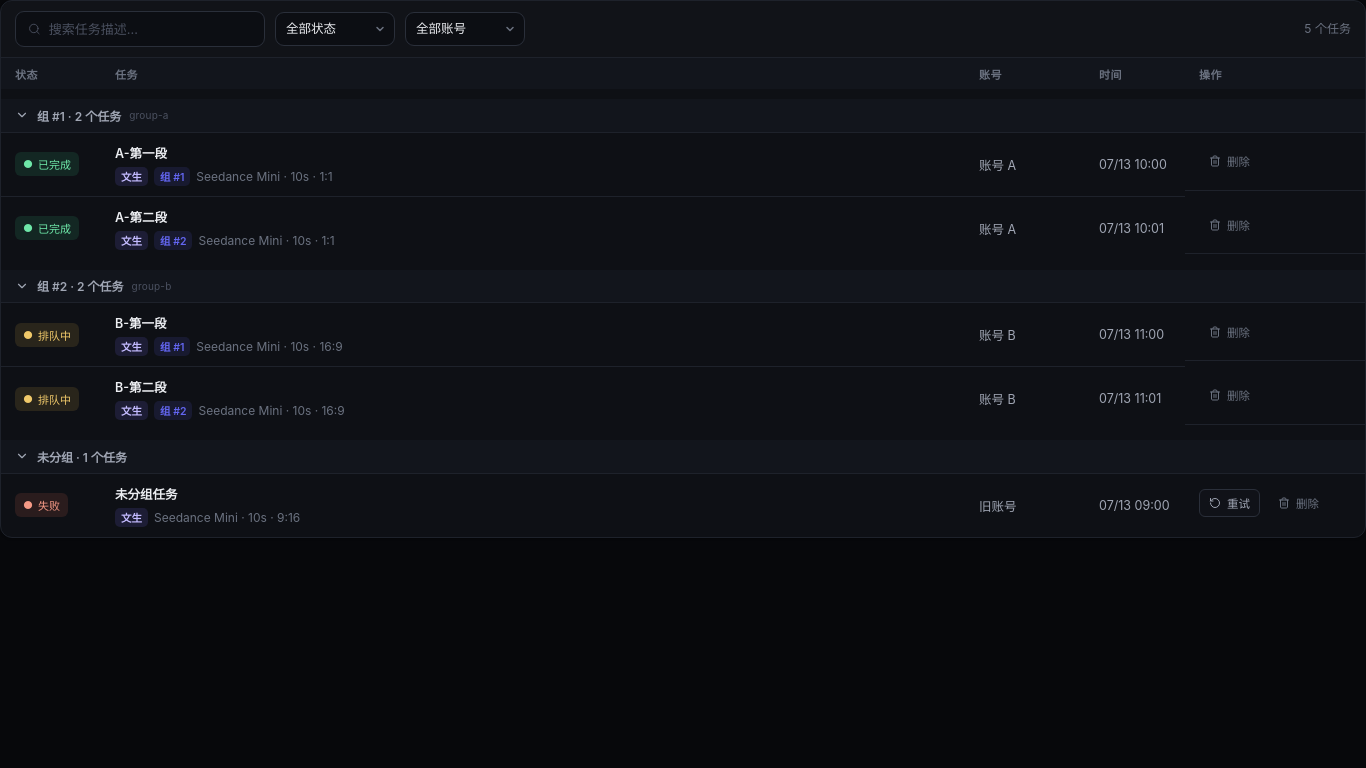
Scenario: partitions visible tasks by group and keeps group order after filtering
Type "B-" into the field named "搜索任务" at (150, 29), box [49, 12, 252, 46]
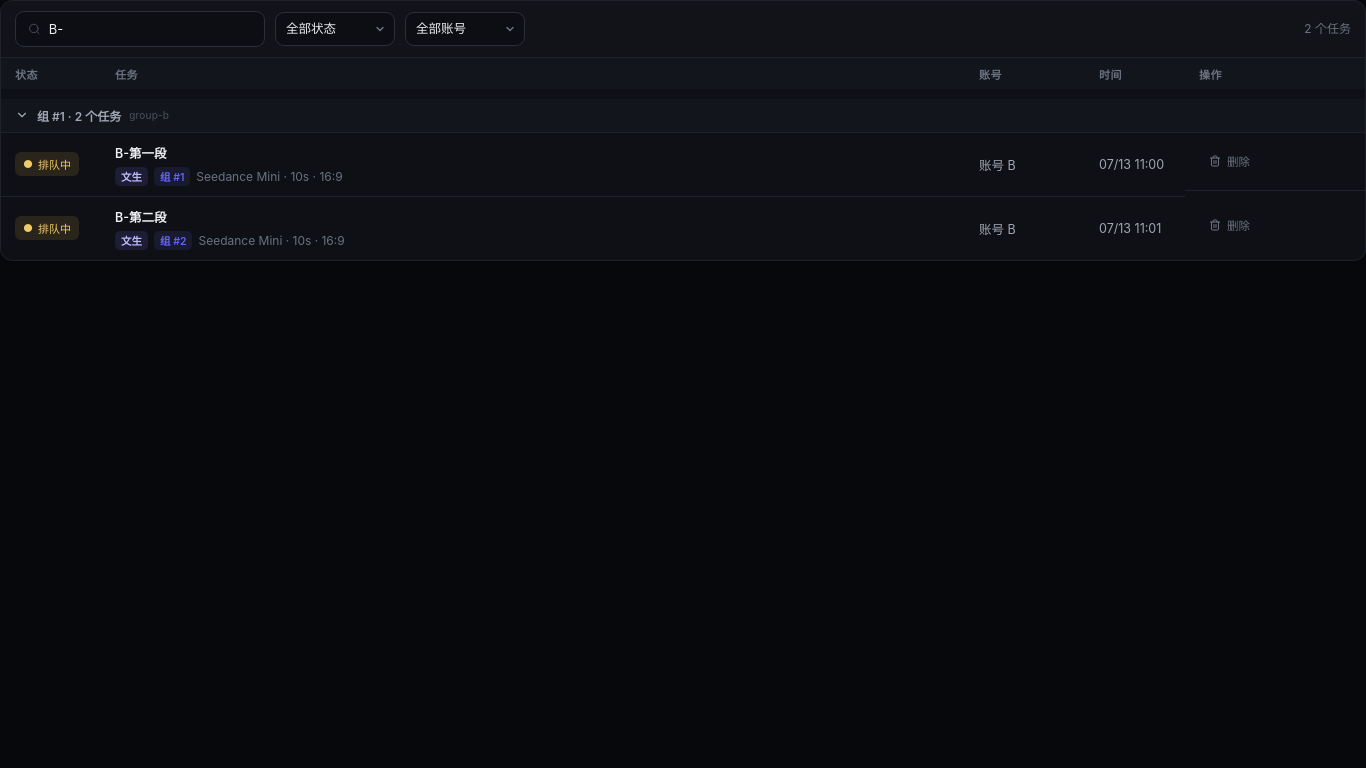
Expected: the button "B-第一段" is shown, [115, 142, 951, 162]
Expected: the button "A-第一段" is gone
Expected: the button "未分组任务" is gone
